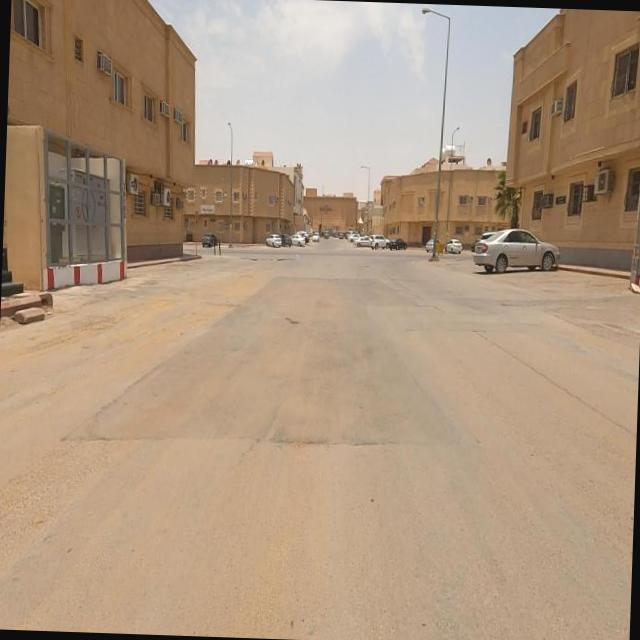debris: (282, 242, 309, 270)
